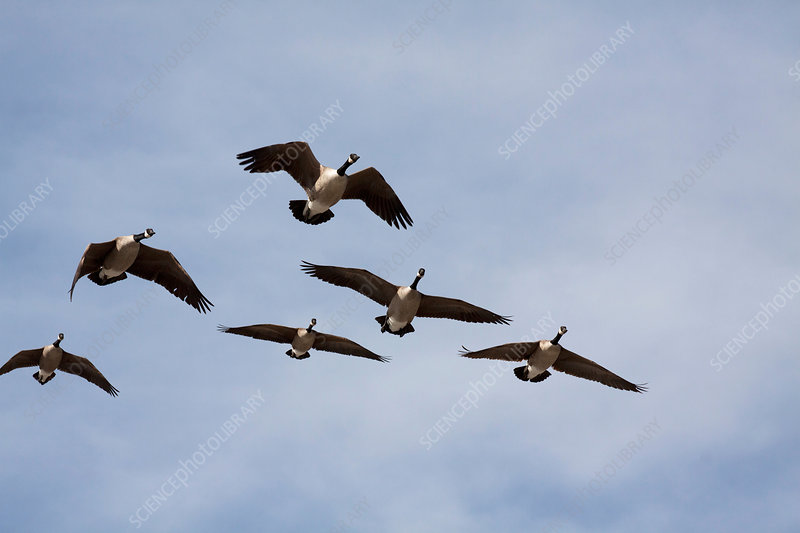goose: (233, 138, 415, 234), (298, 257, 513, 338), (456, 323, 647, 398), (66, 227, 213, 315), (213, 314, 390, 364), (1, 330, 121, 399)
